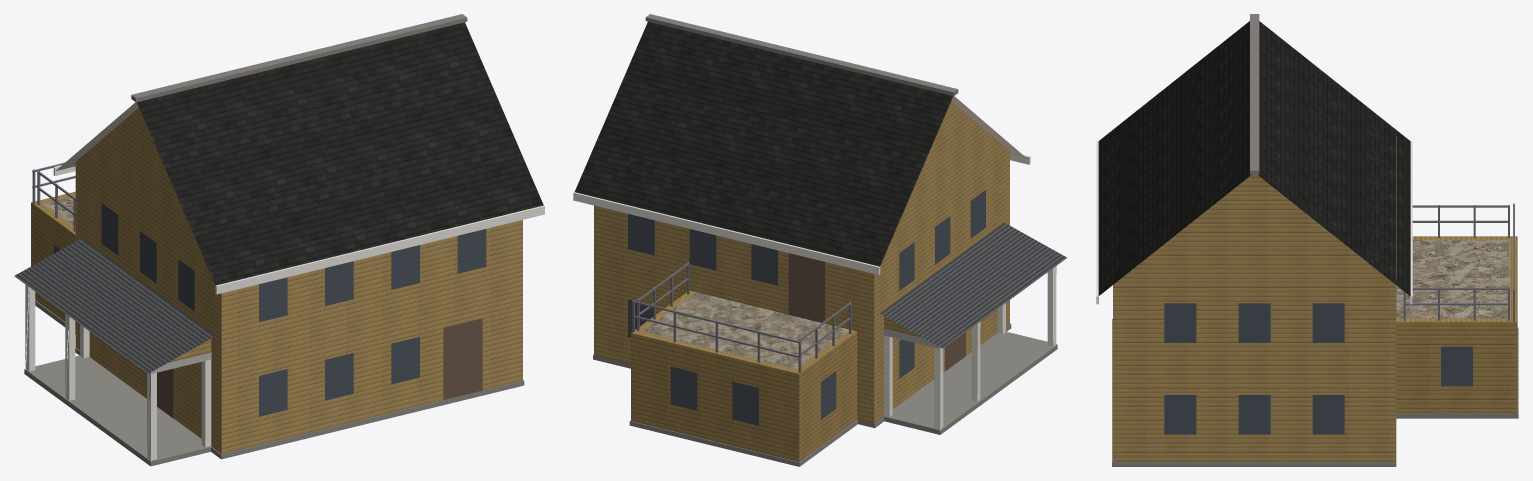
Rendered from mh-company-house.zfix-v22.lod1.glb.
3 views of the same model, side by side, from view 1: azimuth 30°, elevation 25°; view 2: azimuth 150°, elevation 25°; view 3: azimuth 270°, elevation 25° (orthographic). The views are drawn at different scales.
Parts seen in each view (by area): view 1: mh-company-house; view 2: mh-company-house; view 3: mh-company-house.
Boxes of the visible parts, x1,y1,x2,y2 form: mh-company-house: [14, 14, 544, 466]; mh-company-house: [573, 14, 1066, 466]; mh-company-house: [1096, 14, 1518, 466].
Size of the model in its own units: 12.75 by 9.93 by 12.52.
5 materials, 4 textured.
